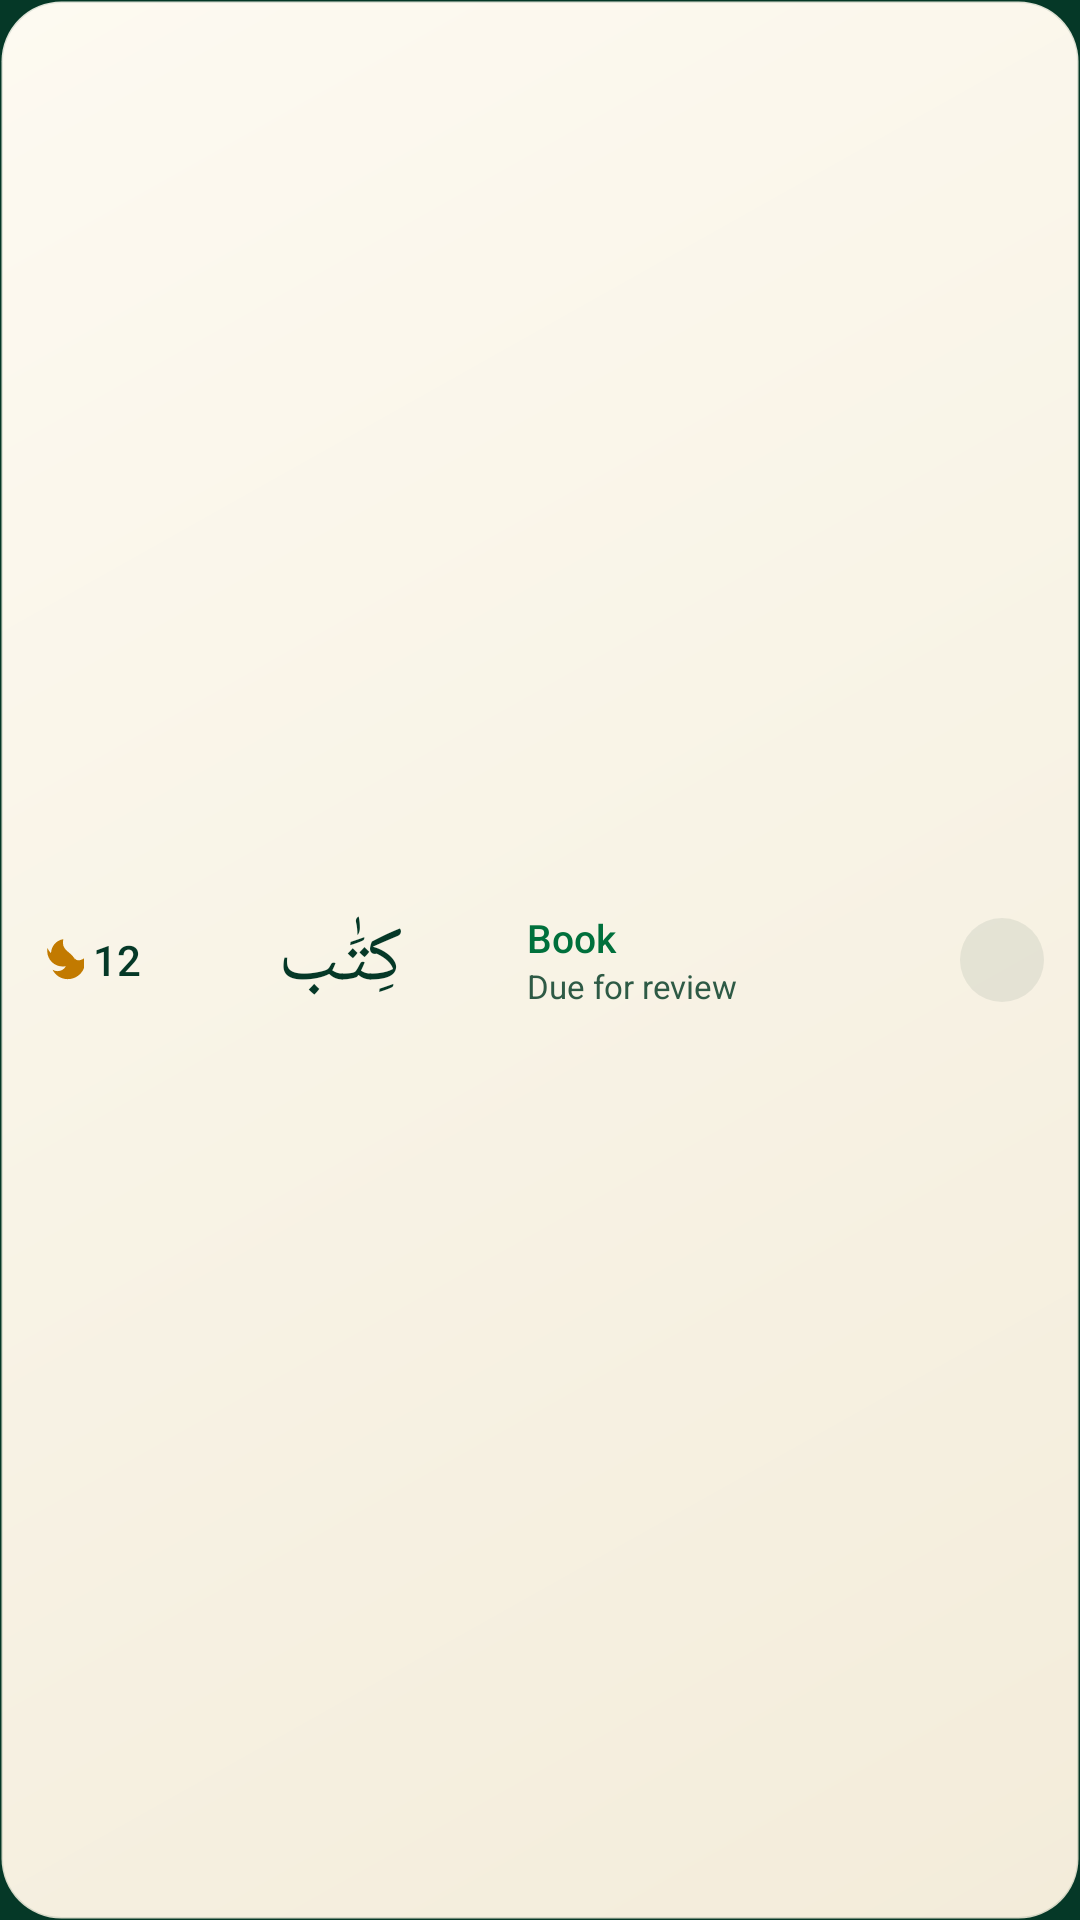

Point at icon controls on the screen. Image size 1080x1920, points as [x,y].
widget flame: [65,959]
